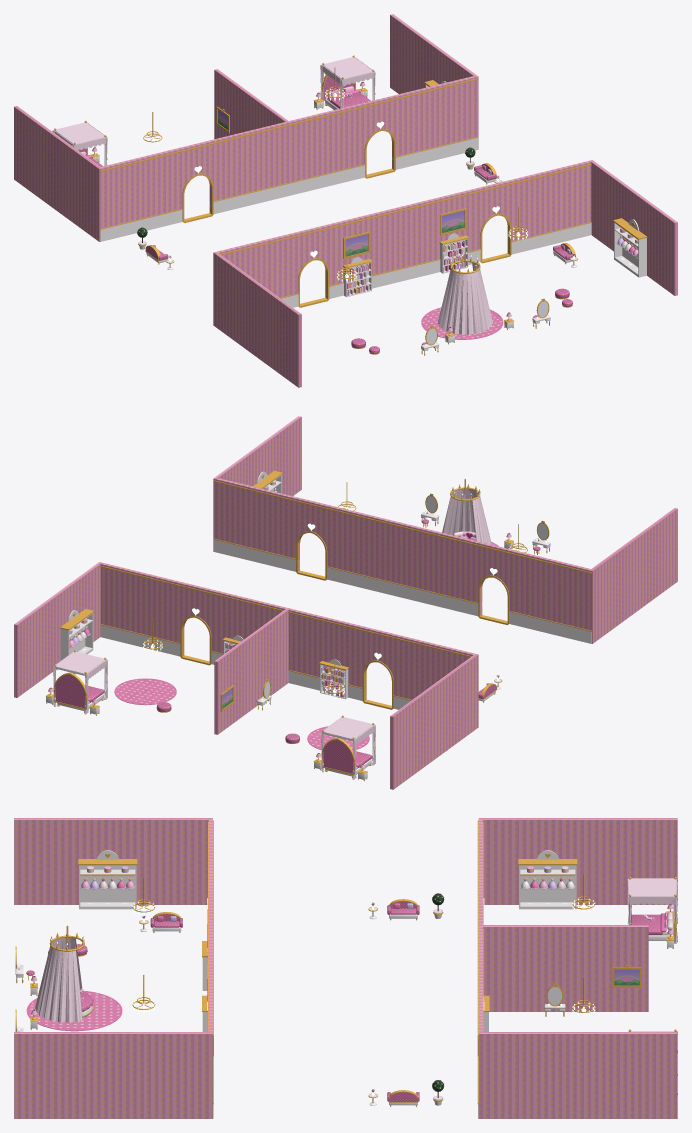
File: citadel_suites.glb
3 views of the same model, one above another, from view 1: azimuth 30°, elevation 25°; view 2: azimuth 150°, elevation 25°; view 3: azimuth 270°, elevation 25° (orthographic). The views are drawn at different scales.
Visible parts, largest first — view 1: suites_wallpaper, suites_white_wood, suites_gold, suites_tulle, suites_tufted, suites_carpet, suites_satin_rose, suites_satin_pink; view 2: suites_wallpaper, suites_white_wood, suites_gold, suites_tulle, suites_tufted, suites_carpet; view 3: suites_wallpaper, suites_white_wood, suites_gold, suites_tulle, suites_tufted, suites_carpet, suites_satin_rose, suites_satin_pink, suites_crystal.
Boxes of the visible parts, box(x1,y1,x2,y2) form: suites_wallpaper: box(14, 14, 677, 387); suites_white_wood: box(55, 67, 646, 351); suites_gold: box(54, 55, 647, 355); suites_tulle: box(52, 57, 636, 334); suites_tufted: box(78, 76, 575, 353); suites_carpet: box(422, 308, 501, 338); suites_satin_rose: box(86, 89, 635, 339); suites_satin_pink: box(82, 82, 638, 331); suites_wallpaper: box(14, 416, 677, 789); suites_white_wood: box(46, 471, 591, 779); suites_gold: box(46, 470, 591, 781); suites_tulle: box(53, 489, 491, 779); suites_tufted: box(54, 519, 540, 773); suites_carpet: box(116, 543, 496, 749); suites_wallpaper: box(14, 818, 677, 1118); suites_white_wood: box(15, 850, 676, 1118); suites_gold: box(15, 820, 677, 1106); suites_tulle: box(35, 878, 677, 1094); suites_tufted: box(26, 901, 662, 1101); suites_carpet: box(28, 991, 120, 1029); suites_satin_rose: box(18, 878, 666, 1091); suites_satin_pink: box(31, 866, 673, 1099); suites_crystal: box(18, 898, 595, 1095).
Size of the model in its own units: 35.4 by 6.64 by 46.02.
29 materials, 7 textured.
